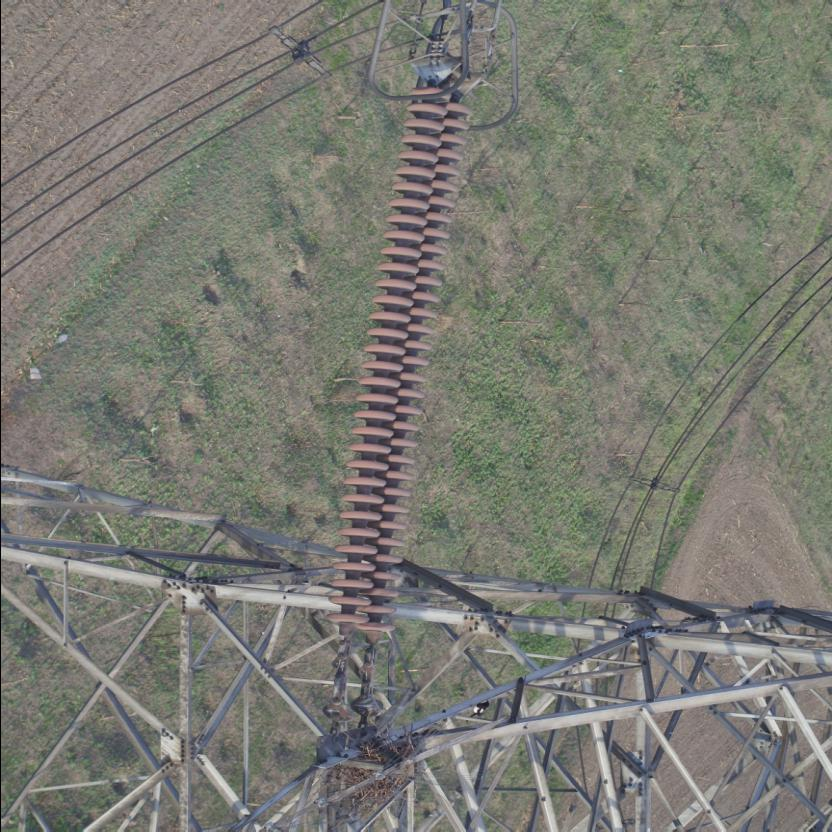insulator: (322, 66, 482, 678)
